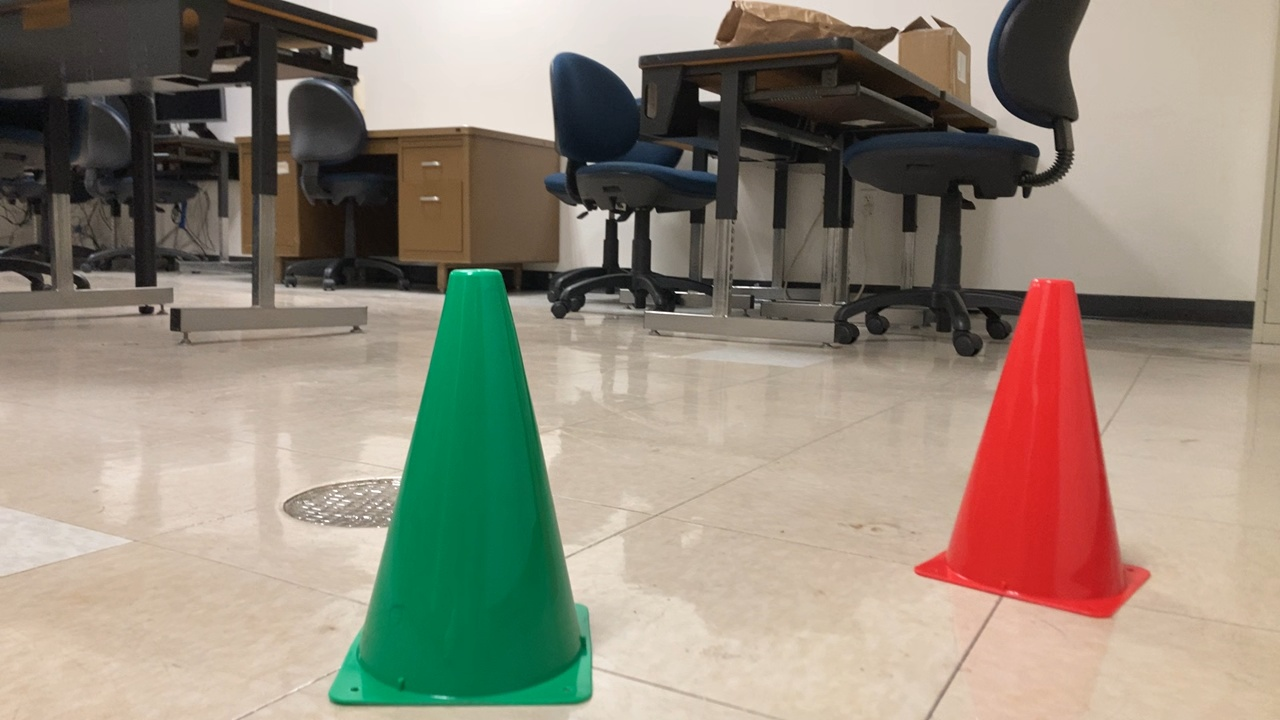green_cone: (321, 268, 604, 711)
red_cone: (896, 269, 1170, 623)
